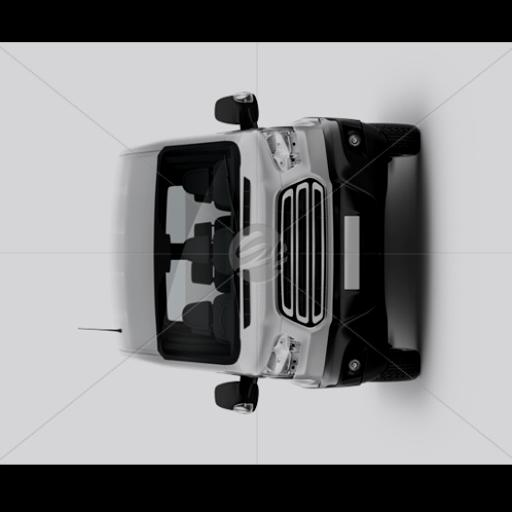van: (112, 92, 417, 410)
